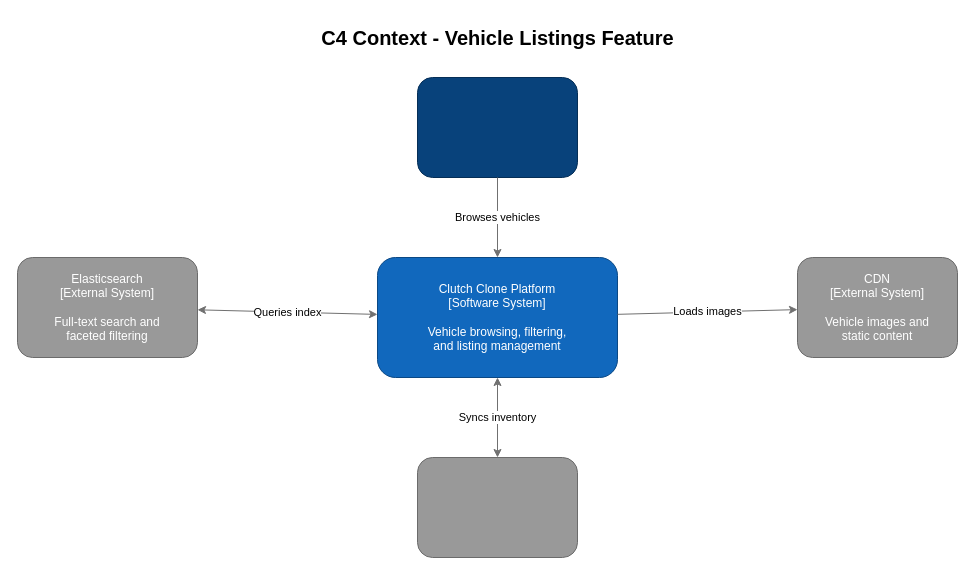
Image size: 975x575. Some labels were removed from this diagram. The shapes that lost their labels are listed below. From the top down, each one's box as (x1, y1, x2, y2) in pixels, then its label:
(416, 76, 578, 178): Car Buyer [Person] Browses and filters vehicle inventory
(416, 456, 578, 558): Inventory System [External System] Vehicle availability and status updates
